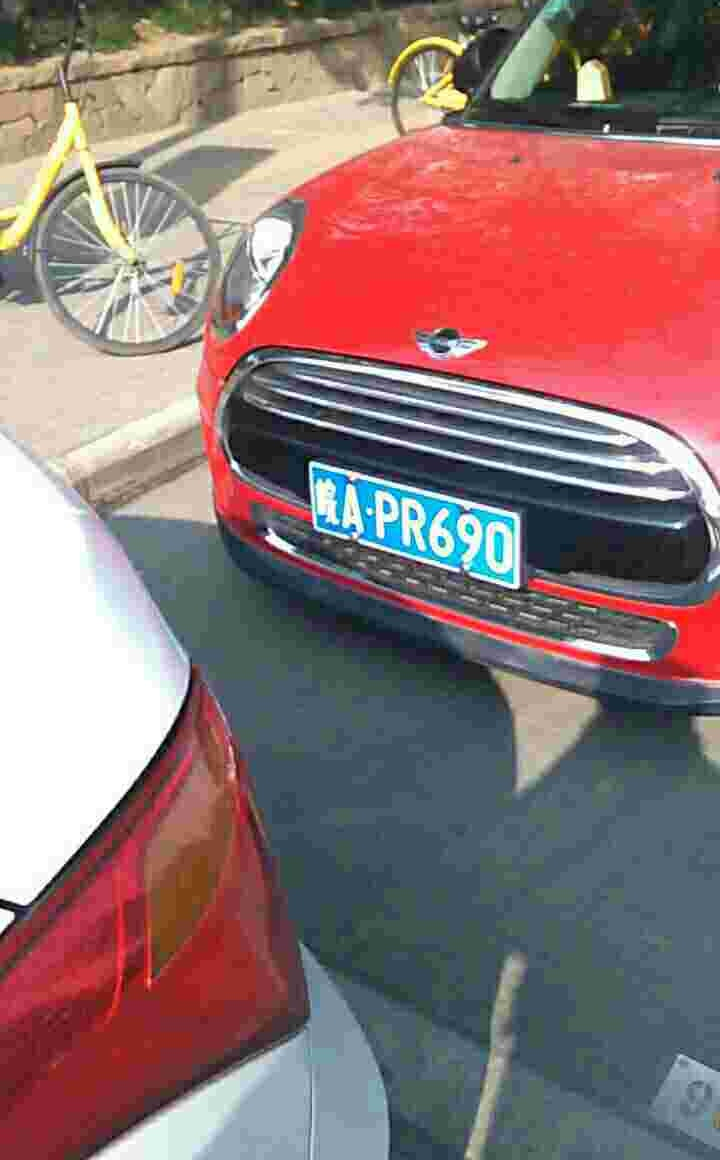plate: (307, 455, 520, 594)
